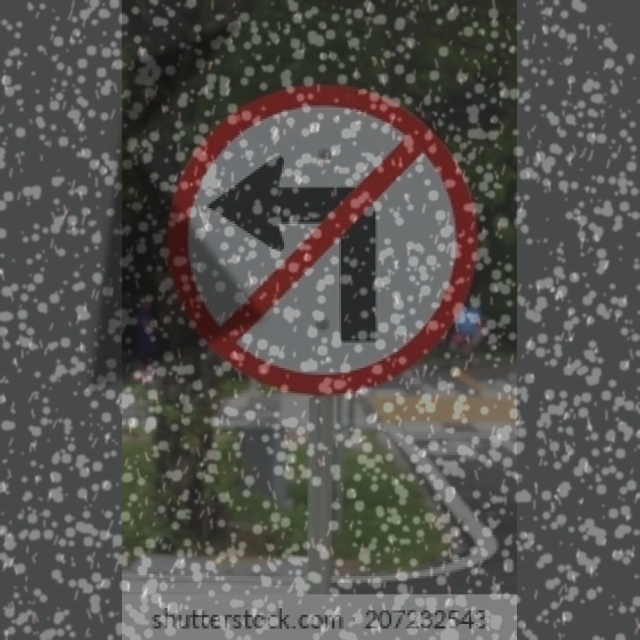Left_Turn_Prohibited: (167, 84, 482, 399)
